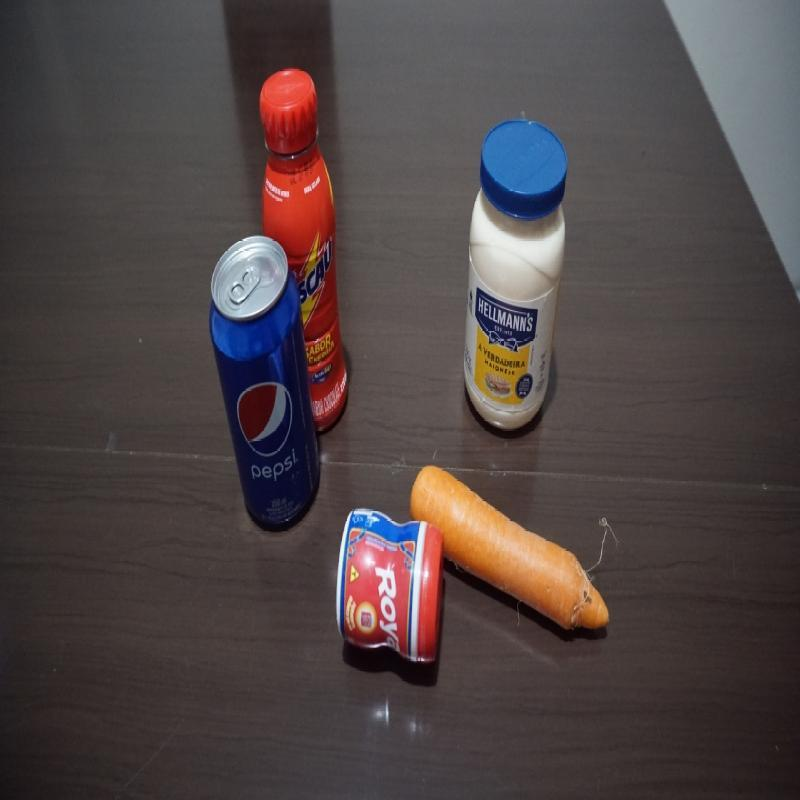Carrot: (413, 460, 612, 642)
Chocolate Milk: (261, 70, 350, 426)
Mayonnaise: (464, 120, 568, 439)
Soda can: (209, 238, 321, 527)
Yeast: (339, 505, 444, 672)
